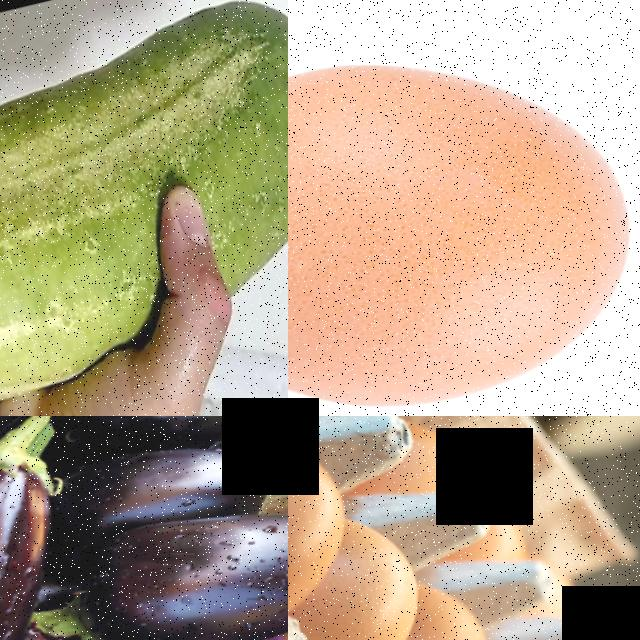cucumber: (0, 0, 288, 365)
egg_: (288, 0, 640, 416), (288, 416, 367, 640), (288, 567, 437, 640)
eggplant: (71, 475, 288, 640), (0, 439, 91, 640), (106, 416, 288, 456)
